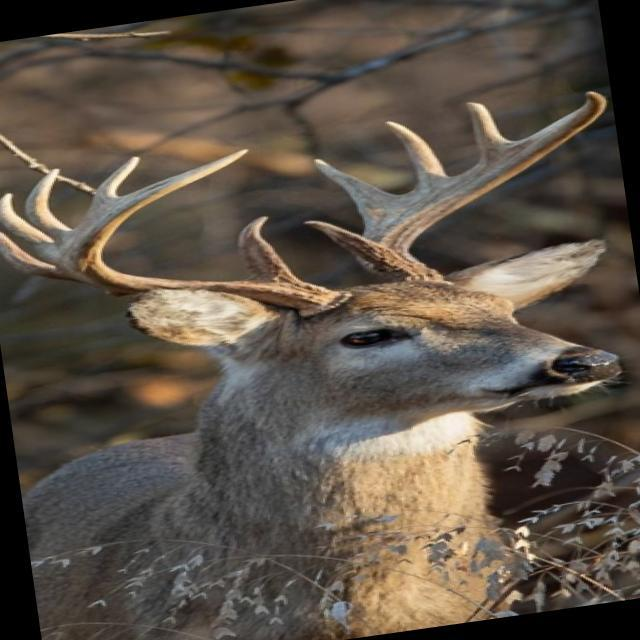L-F: (353, 90, 608, 283)
L-G1: (298, 220, 364, 255)
L-G2: (312, 158, 399, 222)
L-G3: (383, 120, 452, 187)
L-G4: (463, 101, 512, 162)
R-F: (58, 148, 356, 319)
R-G1: (234, 214, 301, 281)
R-G2: (0, 230, 59, 279)
R-G3: (0, 191, 56, 250)
R-G4: (25, 167, 74, 242)
R-G5: (88, 155, 143, 206)
